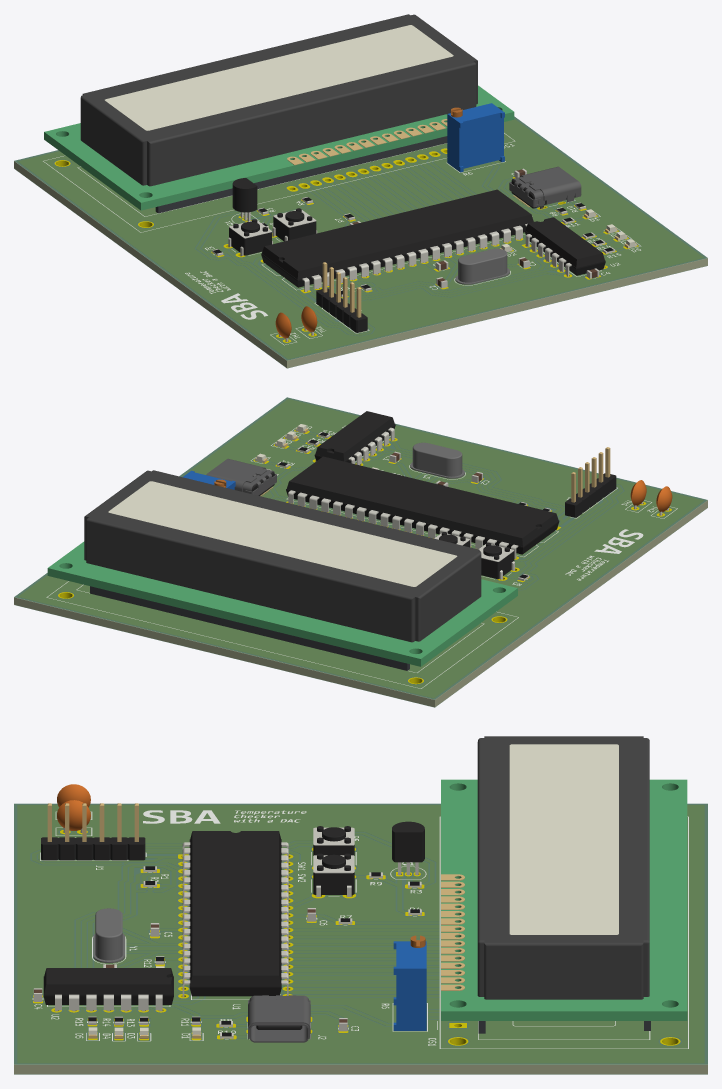
Rendered from Temperature Checker with a DAC.glb.
The picture shows the model from 3 angles, top to bottom: view 1: azimuth 30°, elevation 25°; view 2: azimuth 150°, elevation 25°; view 3: azimuth 270°, elevation 25°; orthographic projection. The views are drawn at different scales.
Visible parts, largest first — view 1: =>[0:1:1:30], =>[0:1:1:27], =>[0:1:1:28], =>[0:1:1:7], =>[0:1:1:32], =>[0:1:1:23], =>[0:1:1:21], =>[0:1:1:29], =>[0:1:1:11] (×2), =>[0:1:1:19], =>[0:1:1:25], =>[0:1:1:15] (+2 smaller); view 2: =>[0:1:1:27], =>[0:1:1:30], =>[0:1:1:28], =>[0:1:1:7], =>[0:1:1:32], =>[0:1:1:21], =>[0:1:1:29], =>[0:1:1:25], =>[0:1:1:19], =>[0:1:1:15], =>[0:1:1:11], =>[0:1:1:31]; view 3: =>[0:1:1:30], =>[0:1:1:28], =>[0:1:1:27], =>[0:1:1:7], =>[0:1:1:32], =>[0:1:1:21], =>[0:1:1:29], =>[0:1:1:25], =>[0:1:1:23], =>[0:1:1:19], =>[0:1:1:11] (×2), =>[0:1:1:15] (+3 smaller).
Boxes of the visible parts, x1,y1,x2,y2 form: =>[0:1:1:30]: (14, 116, 707, 360); =>[0:1:1:27]: (44, 14, 514, 213); =>[0:1:1:28]: (18, 120, 703, 358); =>[0:1:1:7]: (261, 189, 533, 291); =>[0:1:1:32]: (14, 118, 707, 368); =>[0:1:1:23]: (447, 103, 504, 172); =>[0:1:1:21]: (525, 217, 605, 276); =>[0:1:1:29]: (43, 133, 641, 345); =>[0:1:1:11] (×2): (228, 208, 317, 256); =>[0:1:1:19]: (509, 166, 581, 208); =>[0:1:1:25]: (316, 262, 367, 332); =>[0:1:1:15]: (455, 248, 509, 284); =>[0:1:1:27]: (47, 470, 517, 670); =>[0:1:1:30]: (14, 397, 707, 699); =>[0:1:1:28]: (19, 399, 702, 697); =>[0:1:1:7]: (286, 456, 559, 558); =>[0:1:1:32]: (14, 398, 707, 707); =>[0:1:1:21]: (314, 411, 395, 465); =>[0:1:1:29]: (46, 425, 677, 688); =>[0:1:1:25]: (565, 447, 616, 517); =>[0:1:1:19]: (206, 458, 276, 496); =>[0:1:1:15]: (410, 442, 464, 478); =>[0:1:1:11]: (478, 542, 514, 579); =>[0:1:1:31]: (15, 508, 706, 707); =>[0:1:1:30]: (14, 803, 707, 1064); =>[0:1:1:28]: (18, 805, 703, 1062); =>[0:1:1:27]: (441, 736, 687, 1033); =>[0:1:1:7]: (182, 831, 288, 997); =>[0:1:1:32]: (14, 804, 707, 1074); =>[0:1:1:21]: (43, 968, 173, 1011); =>[0:1:1:29]: (32, 810, 688, 1048); =>[0:1:1:25]: (41, 803, 145, 860); =>[0:1:1:23]: (393, 935, 426, 1030); =>[0:1:1:19]: (248, 995, 310, 1042); =>[0:1:1:11] (×2): (313, 826, 354, 896); =>[0:1:1:15]: (93, 908, 124, 963).
Size of the model in its own units: 0.0902 by 0.021 by 0.1014.
